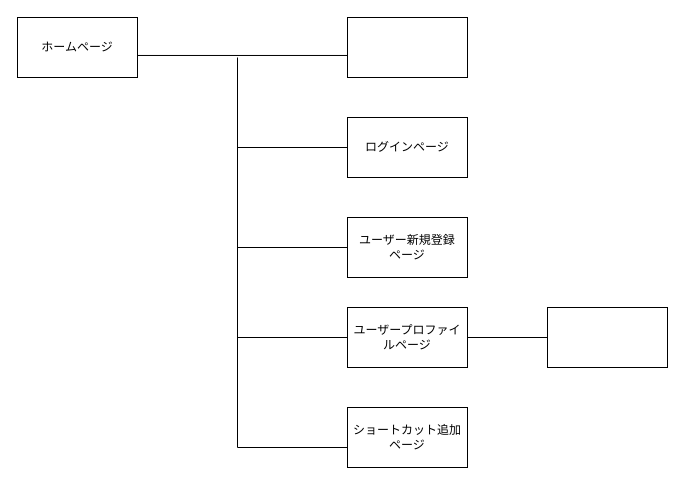
This 685x485 diagram has some shape labels left out. Here are the shapes that lost their labels. From the top down, the centre of each, then its label:
point (407, 47): Googleカレンダーの連携
point (607, 337): 称号・記録一覧
